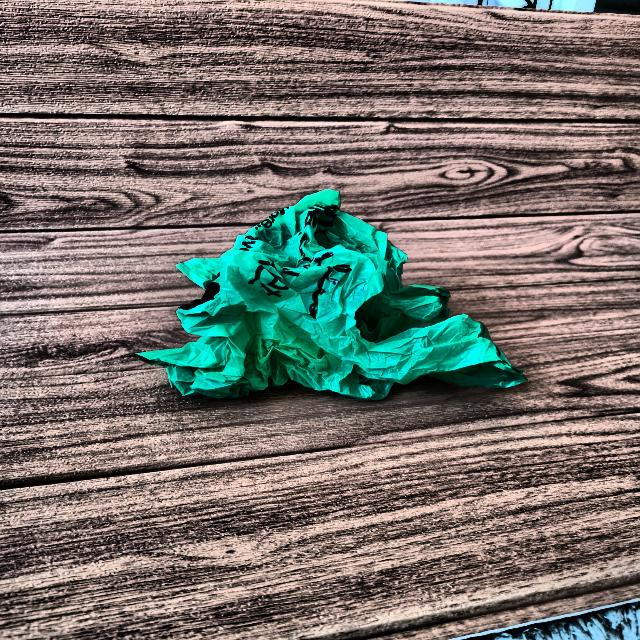plastic bag: (130, 173, 553, 429)
